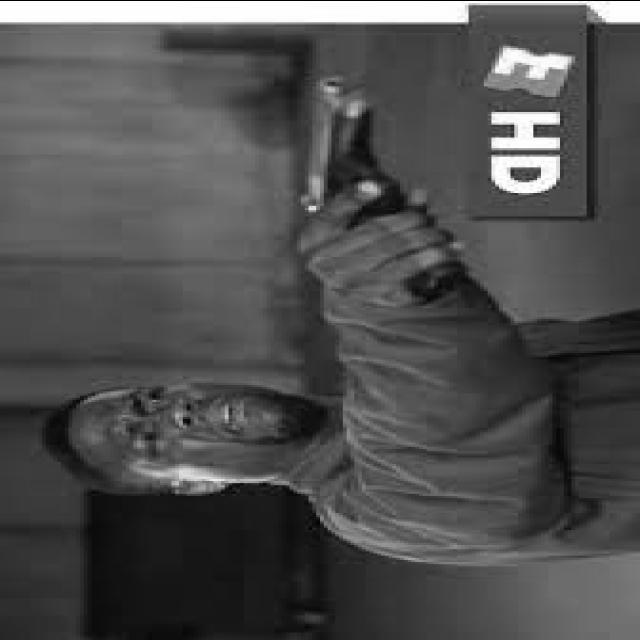weapons: (266, 69, 464, 293)
